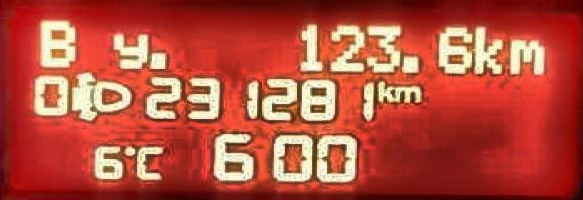-: (398, 53, 418, 74), (146, 50, 165, 69)
0: (313, 134, 358, 184), (270, 132, 313, 181), (32, 73, 68, 116)
1: (295, 20, 323, 71), (241, 78, 260, 119), (358, 80, 375, 122)
2: (326, 22, 365, 71), (142, 75, 182, 120), (260, 76, 295, 120)
3: (363, 23, 402, 73), (183, 75, 220, 117)
6: (208, 131, 253, 181), (435, 24, 473, 74), (90, 144, 123, 180)
8: (297, 76, 337, 121)
X: (35, 18, 76, 68), (472, 24, 503, 75), (505, 36, 545, 75), (110, 31, 148, 68), (133, 144, 163, 181), (392, 84, 422, 103), (375, 80, 391, 101)
